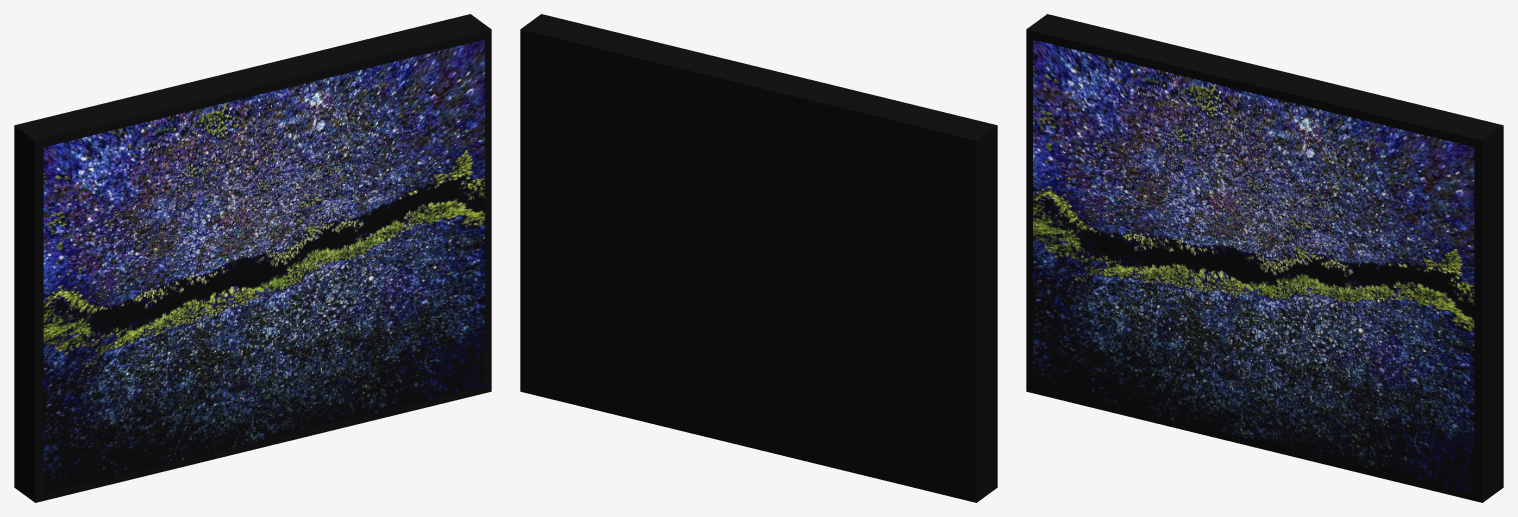
The model's file is cosmic-return-small.glb.
3 renders of one model, left to right at view 1: azimuth 30°, elevation 25°; view 2: azimuth 150°, elevation 25°; view 3: azimuth 330°, elevation 25°, orthographic.
Bounding box in the file's own units: 0.4726 × 0.3583 × 0.0392.
2 materials, 1 textured.
